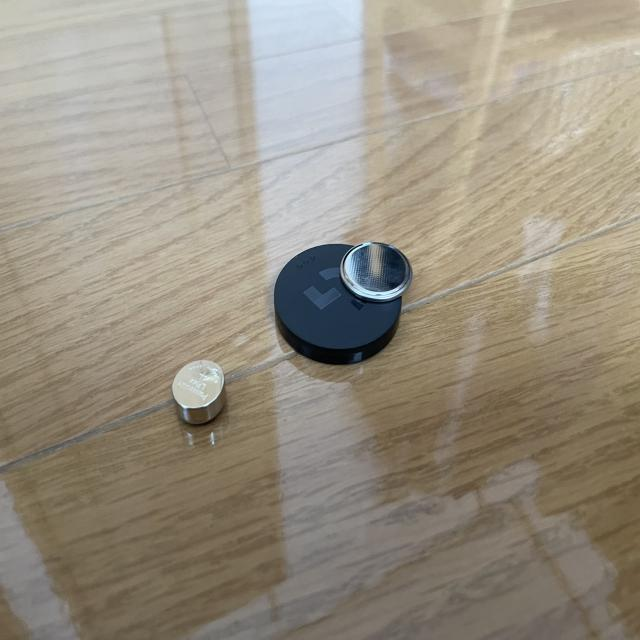COIN: (340, 240, 414, 300), (170, 358, 228, 425)
